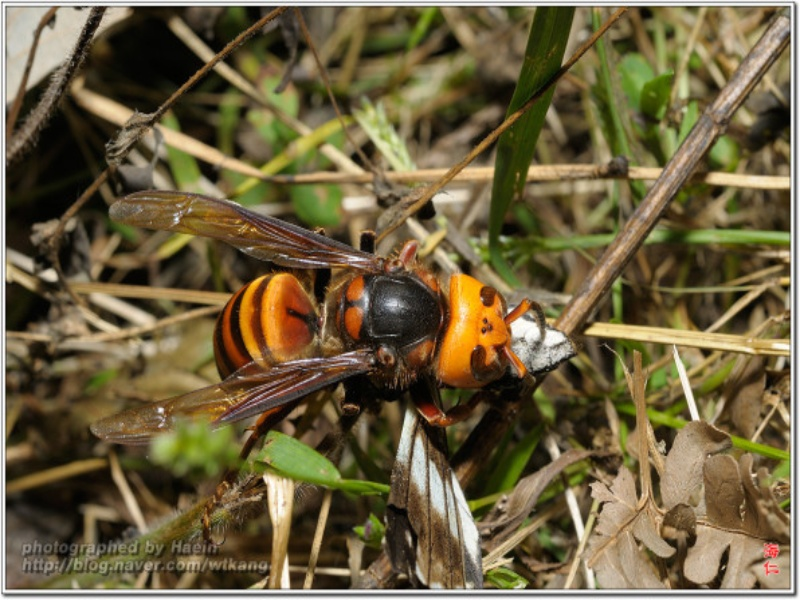asian_giant_hornet: (212, 234, 532, 435)
